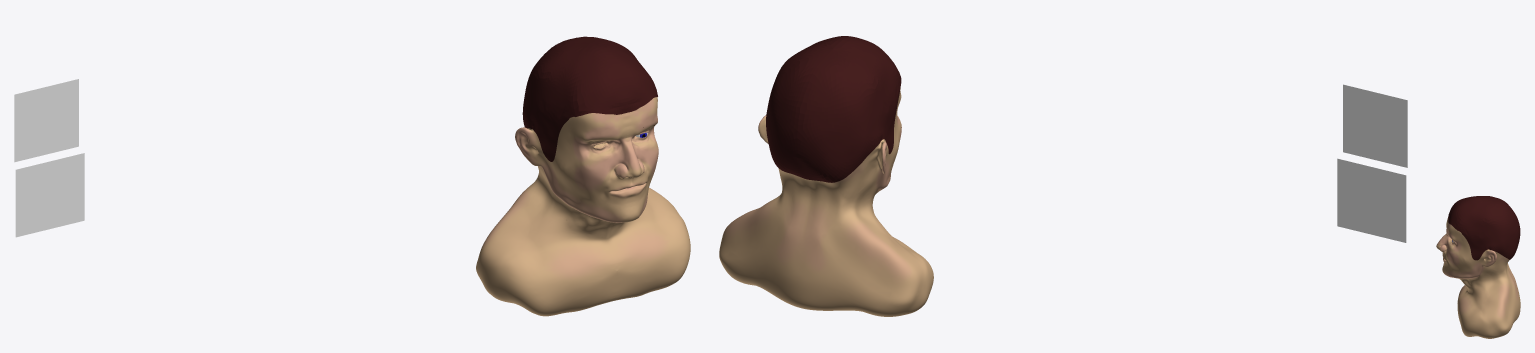
The model's file is HumanHead.gltf.
3 views of the same model, side by side, from view 1: azimuth 30°, elevation 25°; view 2: azimuth 150°, elevation 25°; view 3: azimuth 270°, elevation 25° (orthographic). The views are drawn at different scales.
Visible parts, largest first — view 1: Head, Plane, Head reference side shot, Head reference front shot; view 2: Head, Plane, Head reference side shot, Head reference front shot; view 3: Head, Plane.
Boxes of the visible parts, x1,y1,x2,y2 form: Head: (476,97,690,316); Plane: (522,36,657,161); Head reference side shot: (15,153,84,237); Head reference front shot: (14,79,78,162); Head: (719,87,933,316); Plane: (766,36,901,182); Head reference side shot: (1337,158,1406,242); Head reference front shot: (1343,84,1407,167); Head: (1436,217,1520,338); Plane: (1448,196,1520,260).
Bounding box in the file's own units: 10.4 × 4.96 × 2.25.
